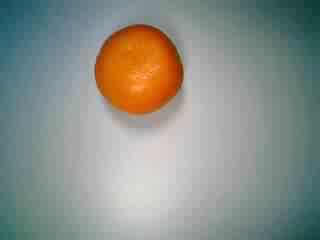orange: (92, 18, 190, 116)
